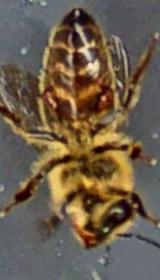varroa_mite: (86, 82, 130, 121), (32, 81, 62, 114)
